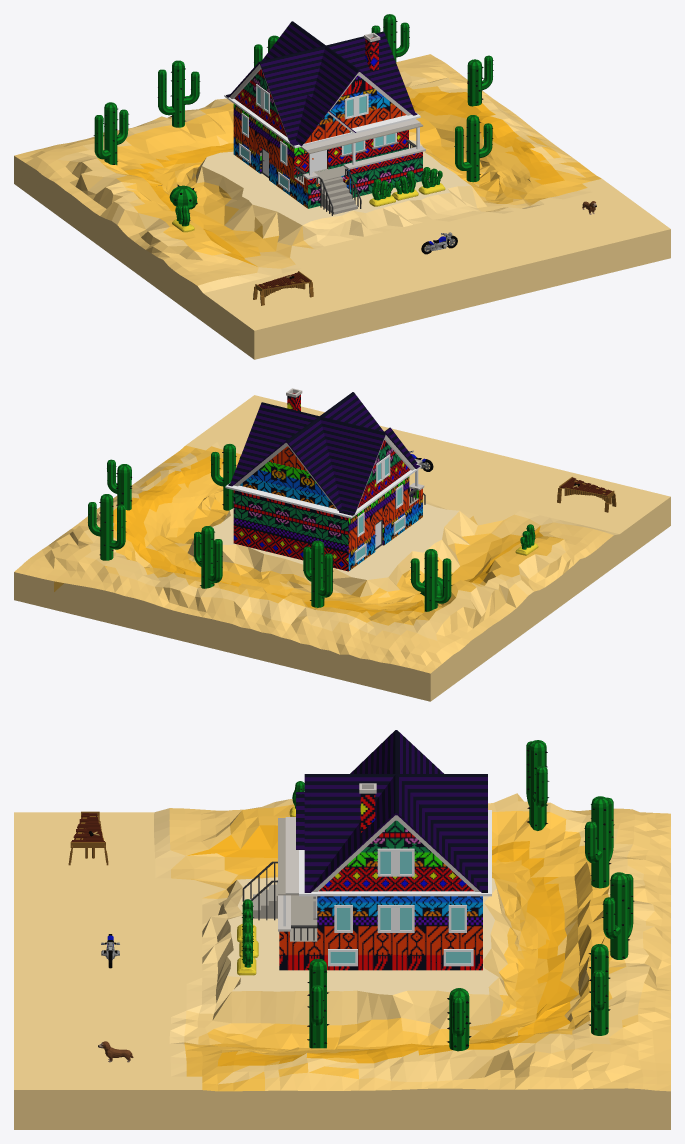
3 renders of one model, top to bottom at view 1: azimuth 30°, elevation 25°; view 2: azimuth 150°, elevation 25°; view 3: azimuth 270°, elevation 25°, orthographic. The views are drawn at different scales.
Visible parts, largest first — view 1: Cube.001, Cube.966, Cylinder.037, Cylinder.044, Cylinder.045, Cylinder.038, OBJRANDOM_MARIMBA, Cylinder.042, Cylinder.039, Cylinder.041, Sphere.023, Cylinder.040; view 2: Cube.001, Cube.966, Cylinder.042, Cylinder.045, Cylinder.044, Cylinder.043, Cylinder.037, Cylinder.038, OBJRANDOM_MARIMBA; view 3: Cube.001, Cube.966, Cylinder.043, Cylinder.044, Cylinder.045, Cylinder.042, Cylinder.037, Cylinder.038, OBJRANDOM_MARIMBA, Cylinder.041.
Boxes of the visible parts, <box> form: Cube.001: <box>14,54,670,359</box>; Cube.966: <box>224,21,425,215</box>; Cylinder.037: <box>454,115,493,182</box>; Cylinder.044: <box>157,60,200,127</box>; Cylinder.045: <box>93,102,129,164</box>; Cylinder.038: <box>467,55,493,106</box>; OBJRANDOM_MARIMBA: <box>253,271,313,305</box>; Cylinder.042: <box>371,14,409,62</box>; Cylinder.039: <box>369,179,395,206</box>; Cylinder.041: <box>418,167,445,194</box>; Sphere.023: <box>169,184,197,209</box>; Cylinder.040: <box>392,171,418,200</box>; Cube.001: <box>14,395,670,701</box>; Cube.966: <box>225,388,425,571</box>; Cylinder.042: <box>88,494,126,560</box>; Cylinder.045: <box>410,549,452,611</box>; Cylinder.044: <box>303,540,333,607</box>; Cylinder.043: <box>193,526,222,588</box>; Cylinder.037: <box>211,444,240,510</box>; Cylinder.038: <box>107,459,131,510</box>; OBJRANDOM_MARIMBA: <box>557,477,616,512</box>; Cube.001: <box>14,793,670,1129</box>; Cube.966: <box>242,730,491,970</box>; Cylinder.043: <box>602,872,634,959</box>; Cylinder.044: <box>584,796,614,888</box>; Cylinder.045: <box>526,740,549,830</box>; Cylinder.042: <box>588,944,610,1035</box>; Cylinder.037: <box>307,959,329,1048</box>; Cylinder.038: <box>447,988,471,1051</box>; OBJRANDOM_MARIMBA: <box>68,811,108,865</box>; Cylinder.041: <box>237,932,256,975</box>.
Size of the model in its own units: 4002 by 1605 by 4001.
37 materials, 6 textured.
